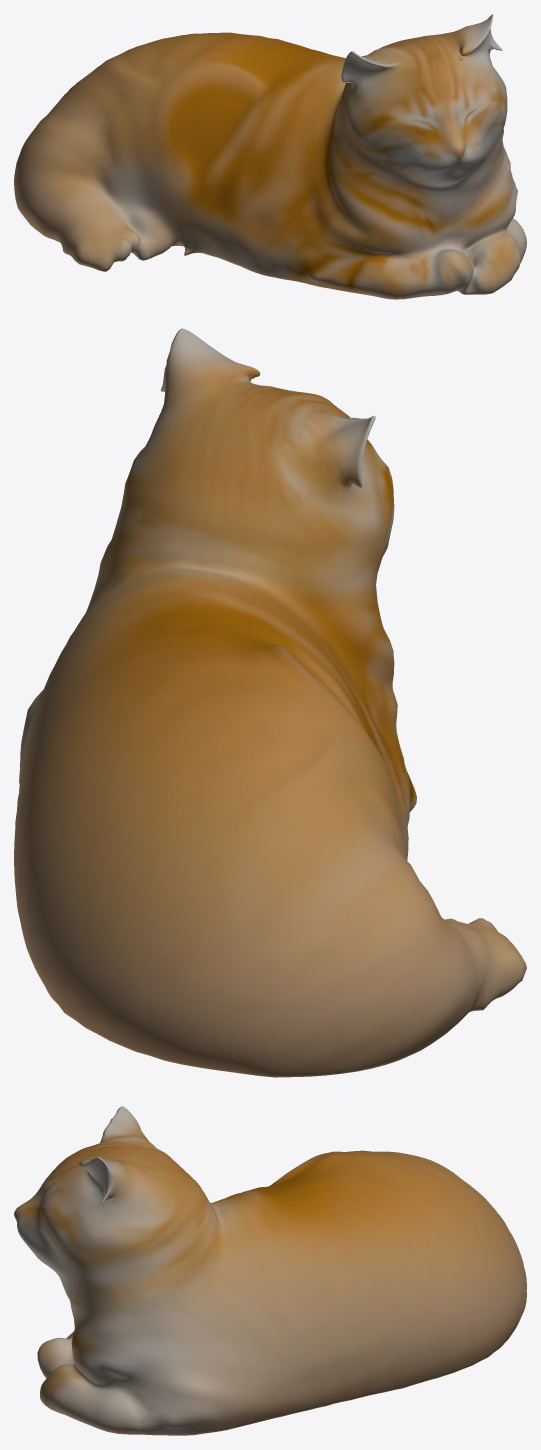
Rendered from orange+tabby+cat+3d+model.fbx.
3 views of the same model, one above another, from view 1: azimuth 30°, elevation 25°; view 2: azimuth 150°, elevation 25°; view 3: azimuth 270°, elevation 25° (orthographic). The views are drawn at different scales.
Parts seen in each view (by area): view 1: tripo_node_799259bb; view 2: tripo_node_799259bb; view 3: tripo_node_799259bb.
Boxes of the visible parts, <box> form: tripo_node_799259bb: <box>14,14,526,299</box>; tripo_node_799259bb: <box>14,328,526,1077</box>; tripo_node_799259bb: <box>14,1106,526,1435</box>.
Size of the model in its own units: 85.5 by 99.99 by 56.16.
1 material, 1 textured.
